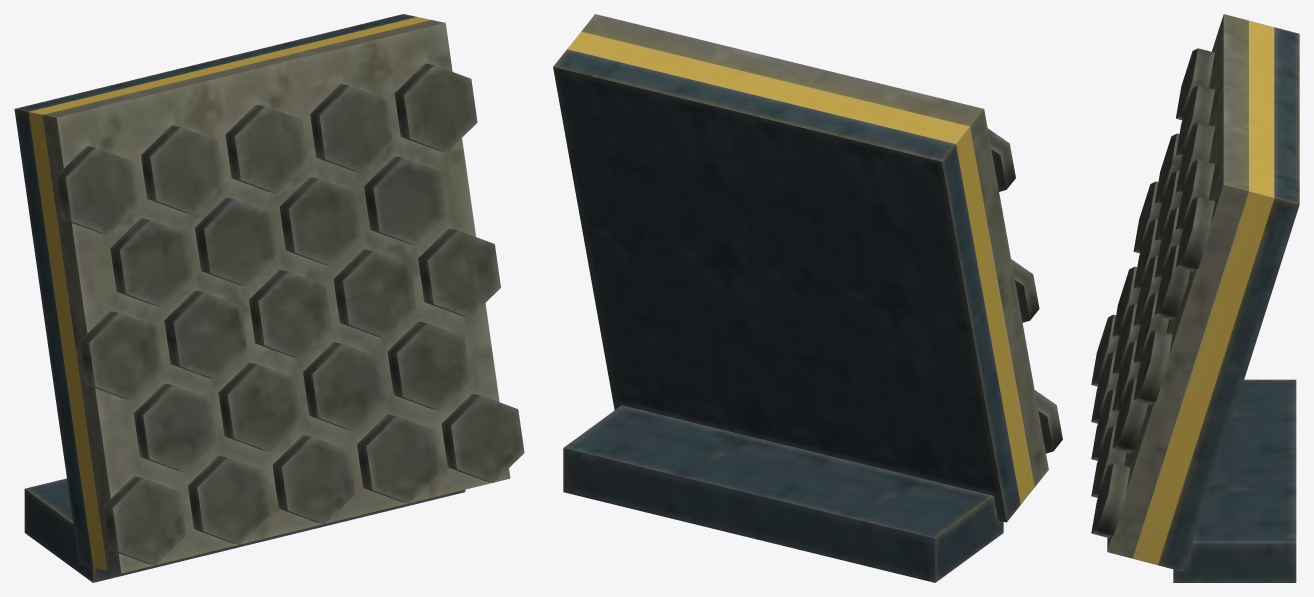
The model's file is composite_armor.glb.
3 renders of one model, left to right at view 1: azimuth 30°, elevation 25°; view 2: azimuth 150°, elevation 25°; view 3: azimuth 270°, elevation 25°, orthographic. The views are drawn at different scales.
Visible parts, largest first — view 1: te_res_composite_armor; view 2: te_res_composite_armor; view 3: te_res_composite_armor.
Boxes of the visible parts, box(x1,y1,x2,y2) form: te_res_composite_armor: box(14, 14, 524, 582); te_res_composite_armor: box(553, 14, 1062, 582); te_res_composite_armor: box(1091, 14, 1299, 582).
Bounding box in the file's own units: 0.4797 × 0.5047 × 0.2373.
1 material, 1 textured.
